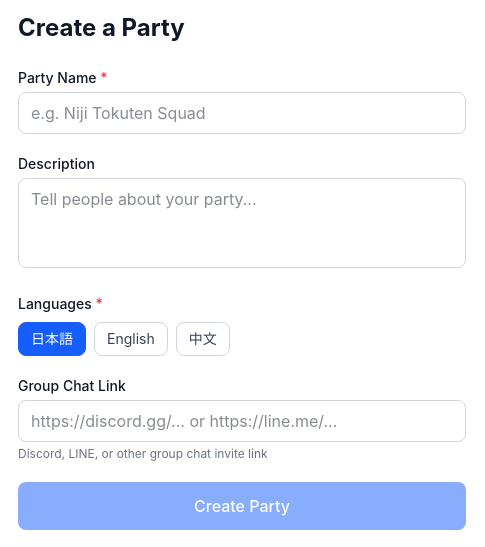
it: CreateParty — form validation › submit button is disabled when no languages are selected
This screenshot has width=485, height=547.
Step 1. Type "My Party" into the field with placeholder "e.g. Niji Tokuten Squad" → (242, 113), box [18, 92, 466, 134]
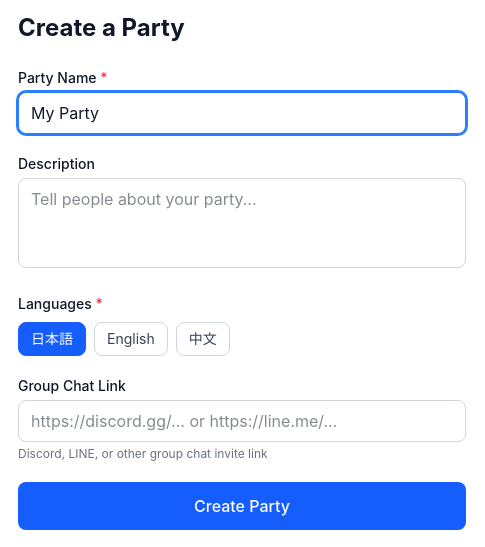
Deselect Japanese (the only selected language)
Step 2. Click the button "日本語" → (52, 339), box [18, 322, 86, 356]
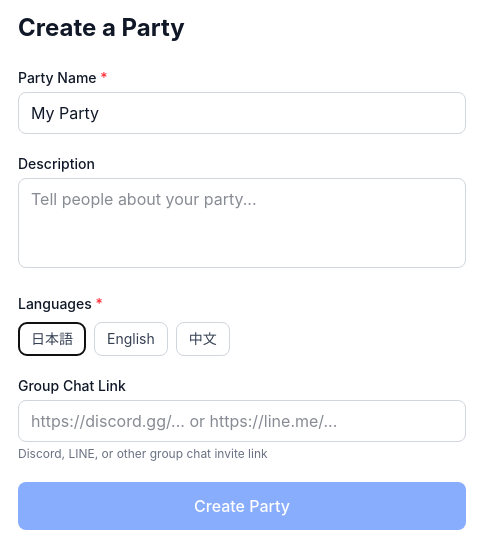
Expected: the button "Create Party" is disabled, [18, 482, 466, 530]
